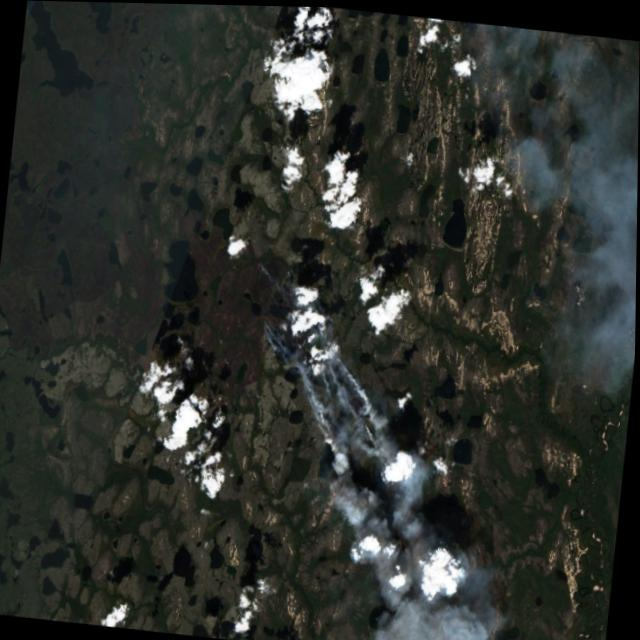fire: (298, 322, 379, 447), (251, 309, 296, 373), (254, 251, 303, 297)
